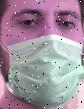with_mask: (2, 2, 84, 109)
